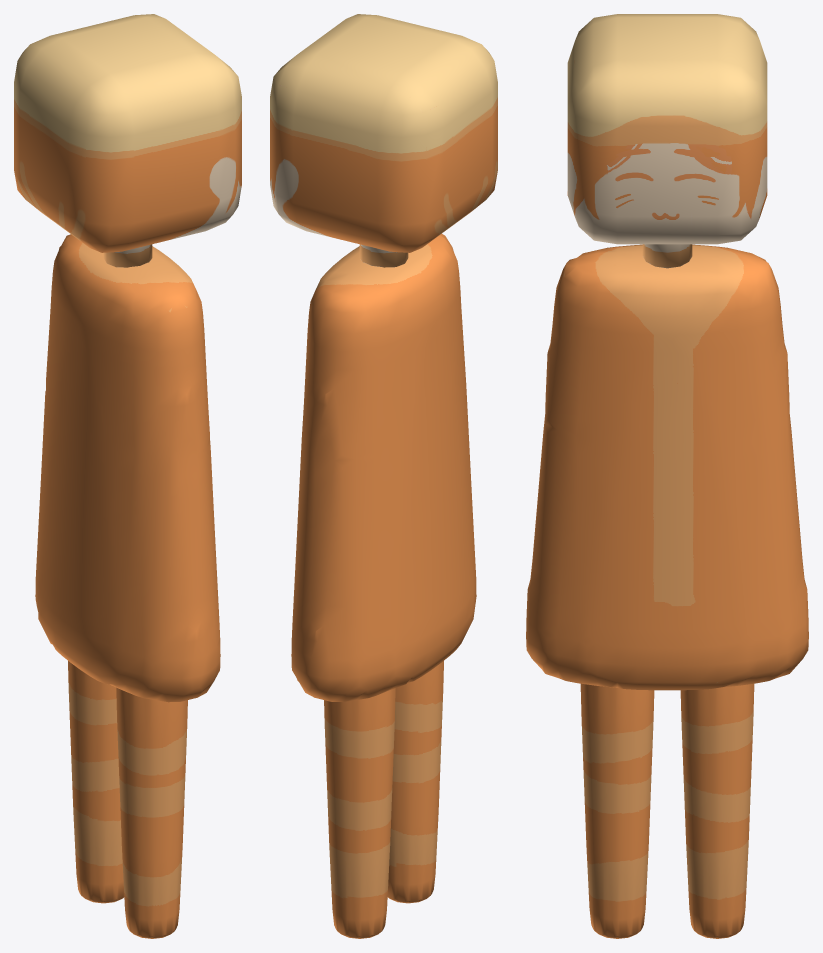
The model's file is mobChara_nico.fbx.
3 renders of one model, left to right at view 1: azimuth 30°, elevation 25°; view 2: azimuth 150°, elevation 25°; view 3: azimuth 270°, elevation 25°, orthographic. The views are drawn at different scales.
Visible parts, largest first — view 1: mobChara6; view 2: mobChara6; view 3: mobChara6.
Part boxes in pixels (x1,y1,x2,y2): mobChara6: (14, 14, 241, 938); mobChara6: (270, 14, 497, 938); mobChara6: (526, 14, 808, 938).
Size of the model in its own units: 100 by 492 by 142.
Materials: 2 (2 with a texture image).
